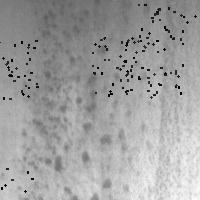pitted_surface: (25, 2, 143, 199), (152, 1, 195, 199), (123, 35, 182, 94), (92, 37, 150, 96), (0, 39, 36, 98), (137, 0, 194, 35), (0, 167, 31, 200)
